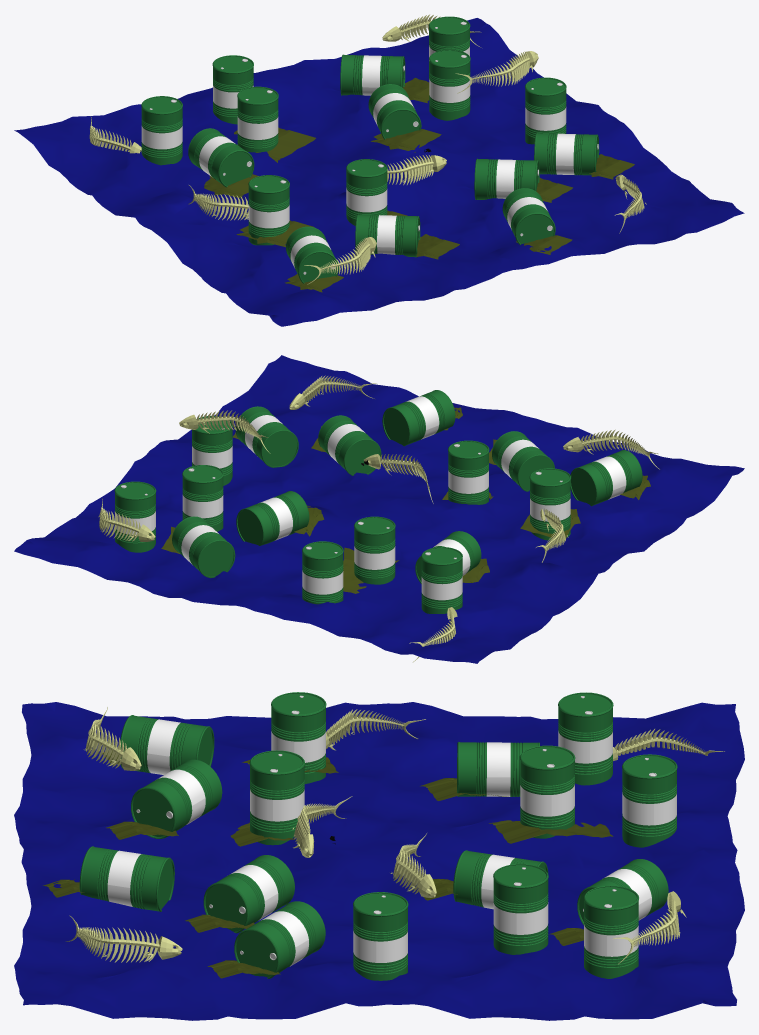
File: ContaminationModel.glb
3 views of the same model, one above another, from view 1: azimuth 30°, elevation 25°; view 2: azimuth 150°, elevation 25°; view 3: azimuth 270°, elevation 25° (orthographic). The views are drawn at different scales.
Parts seen in each view (by area): view 1: Плоскость, Barrel_low.004, Barrel_low.002, Barrel_low.006, Barrel_low.012, Barrel_low.013, Barrel_low.003, Barrel_low.014, Barrel_low.009, Barrel_low.007, Barrel_low.010, Barrel_low.015 (+20 smaller); view 2: Плоскость, Barrel_low.016, Barrel_low.011, Barrel_low.005, Barrel_low.006, Barrel_low.002, Barrel_low.007, Barrel_low.009, Barrel_low.001, Barrel_low.012, Barrel_low.013, Barrel_low.015 (+13 smaller); view 3: Плоскость, Barrel_low.016, Barrel_low.004, Barrel_low.001, Barrel_low.008, Barrel_low.014, Barrel_low.009, Barrel_low.010, Barrel_low.013, Barrel_low.006, Barrel_low.015, Barrel_low.002 (+17 smaller).
Boxes of the visible parts, x1,y1,x2,y2 form: Плоскость: (14, 18, 744, 326); Barrel_low.004: (429, 49, 470, 120); Barrel_low.002: (141, 96, 182, 165); Barrel_low.006: (237, 86, 278, 152); Barrel_low.012: (248, 175, 289, 245); Barrel_low.013: (534, 133, 599, 175); Barrel_low.003: (188, 128, 254, 187); Barrel_low.014: (525, 77, 566, 144); Barrel_low.009: (346, 159, 387, 225); Barrel_low.007: (340, 54, 405, 95); Barrel_low.010: (355, 214, 420, 257); Barrel_low.015: (474, 158, 539, 199); Плоскость: (14, 355, 744, 663); Barrel_low.016: (382, 390, 455, 446); Barrel_low.011: (570, 450, 642, 506); Barrel_low.005: (236, 491, 309, 545); Barrel_low.006: (354, 516, 395, 584); Barrel_low.002: (421, 547, 462, 613); Barrel_low.007: (172, 516, 235, 578); Barrel_low.009: (448, 440, 489, 504); Barrel_low.001: (302, 541, 343, 604); Barrel_low.012: (529, 468, 570, 540); Barrel_low.013: (235, 406, 298, 467); Barrel_low.015: (318, 415, 381, 475); Плоскость: (14, 702, 744, 1020); Barrel_low.016: (79, 846, 174, 911); Barrel_low.004: (493, 864, 548, 954); Barrel_low.001: (622, 754, 677, 847); Barrel_low.008: (583, 885, 638, 978); Barrel_low.014: (353, 892, 408, 980); Barrel_low.009: (249, 750, 304, 845); Barrel_low.010: (131, 759, 222, 838); Barrel_low.013: (234, 901, 325, 978); Barrel_low.006: (520, 745, 575, 838); Barrel_low.015: (203, 855, 294, 933); Barrel_low.002: (558, 692, 613, 785).
Size of the model in its own units: 23.87 by 4.42 by 24.3.
